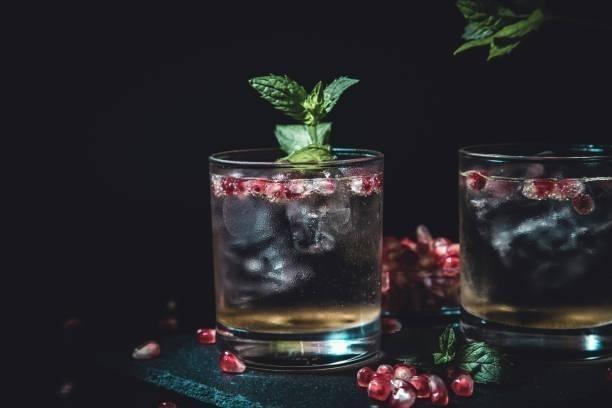glass-normal: (207, 144, 387, 372), (455, 137, 612, 359)
